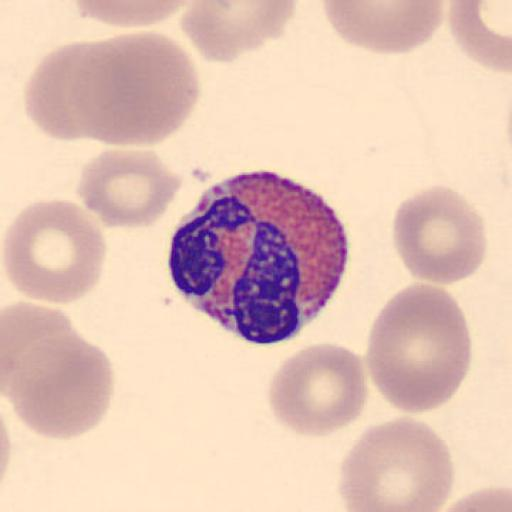RBC: (68, 29, 201, 147), (364, 281, 474, 416), (4, 333, 114, 440), (337, 414, 455, 512), (2, 196, 106, 306), (266, 341, 370, 440), (390, 182, 488, 286), (76, 146, 183, 231), (24, 41, 108, 142), (179, 0, 298, 63), (319, 0, 446, 55), (446, 0, 512, 73), (69, 0, 194, 28), (432, 485, 512, 512), (0, 398, 13, 496)
WBC: (166, 171, 352, 344)
